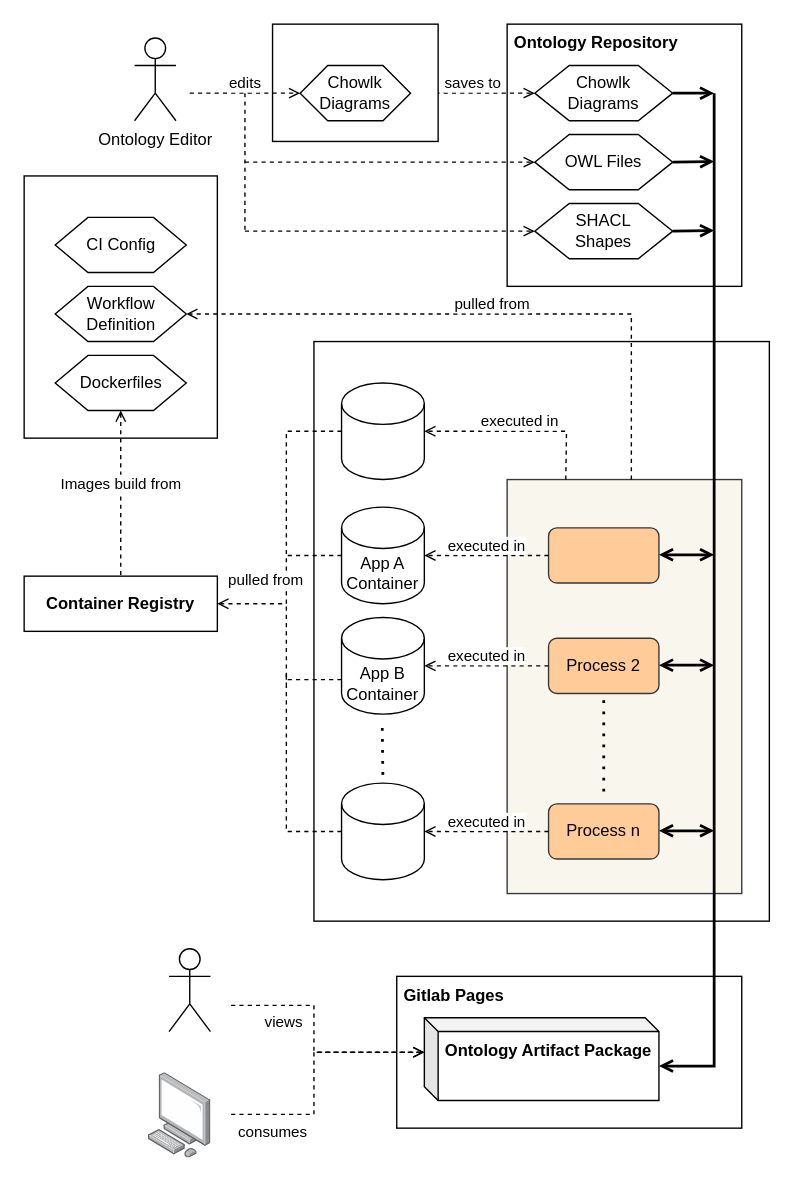
This 794x1183 diagram has some shape labels left out. Here are the shapes that lost their labels. From the top down, the box of each, then its label:
(271, 23, 438, 141): draw.io
(23, 175, 217, 438): OntoFlow Repository
(340, 382, 424, 480): OntoFlow Container
(547, 526, 659, 583): Process 1
(313, 340, 769, 921): CI Runner
(506, 478, 742, 894): Nextflow Workflow
(340, 782, 424, 880): App C Container
(168, 947, 210, 1032): Actor
